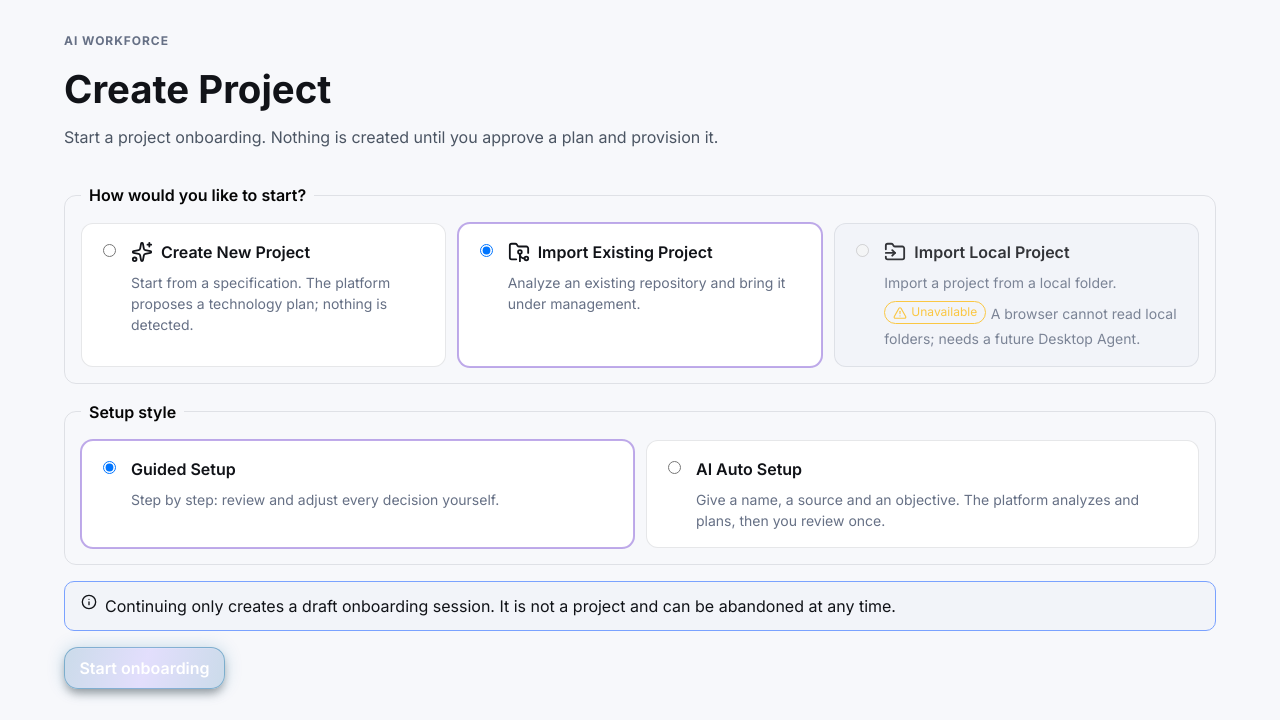
Test: Entry screen › creates a draft session and opens the wizard, not a project
Click the button "Start onboarding" at (144, 668), box [64,647,225,689]
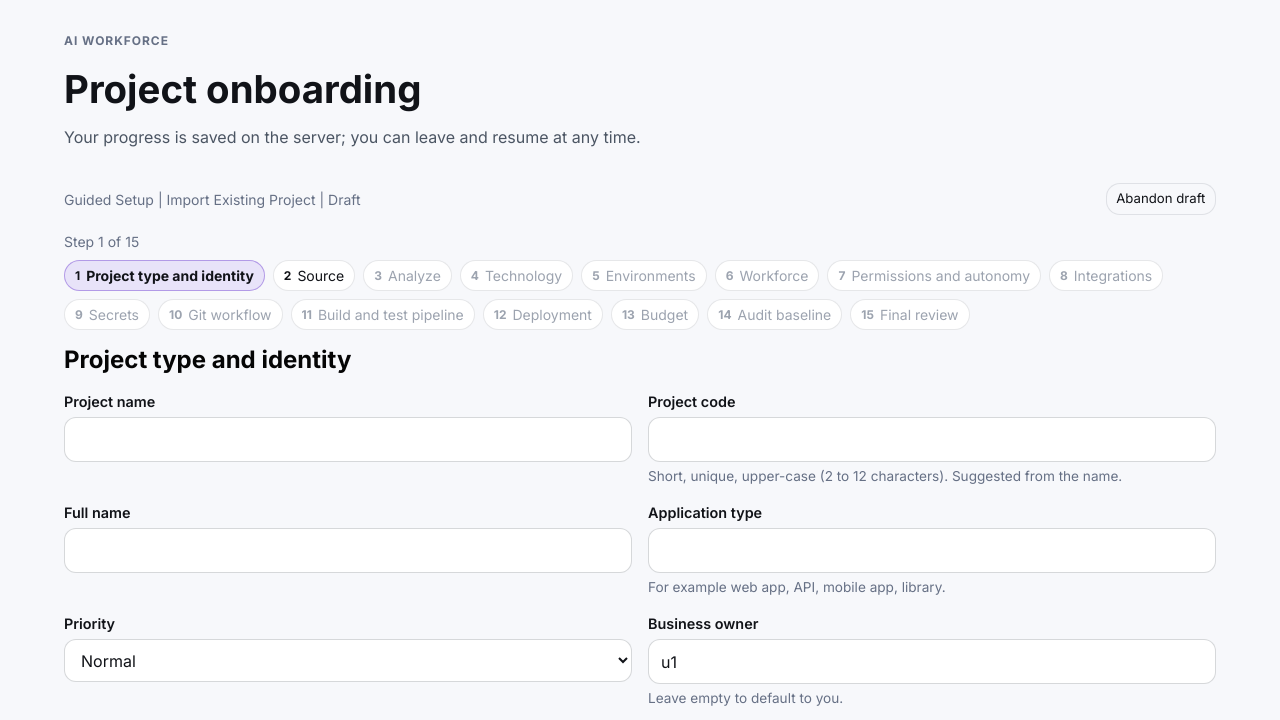
expect the heading "Project type and identity" is shown: met, box [64,345,351,374]
